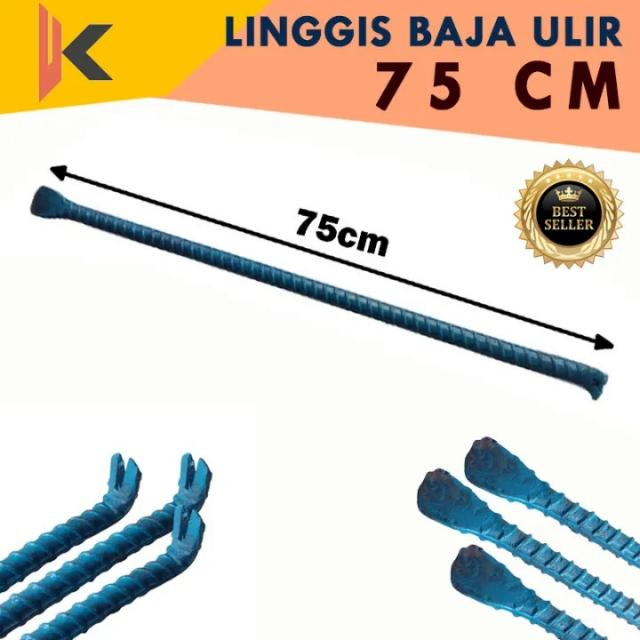crow bar: (27, 184, 609, 401)
